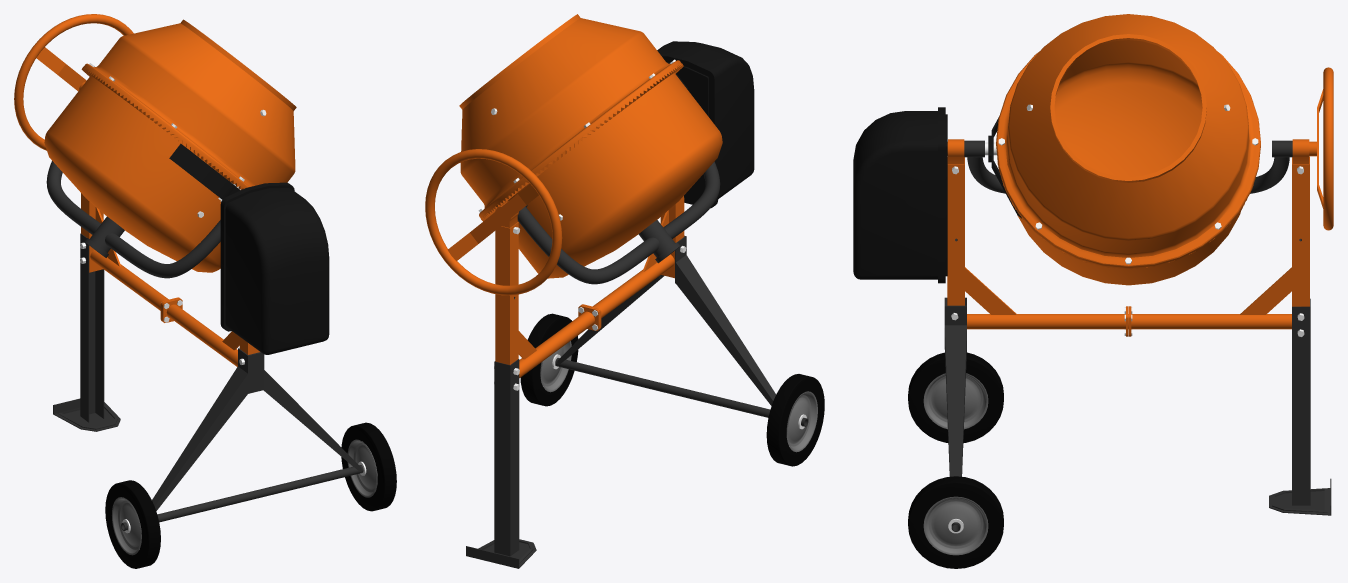
The model's file is mixer.glb.
3 views of the same model, side by side, from view 1: azimuth 30°, elevation 25°; view 2: azimuth 150°, elevation 25°; view 3: azimuth 270°, elevation 25° (orthographic). The views are drawn at different scales.
Parts seen in each view (by area): view 1: Object_8, Object_2, Object_6, Object_4, Object_5, Object_3, Object_7; view 2: Object_8, Object_6, Object_2, Object_4, Object_5, Object_7; view 3: Object_8, Object_2, Object_6, Object_4, Object_5, Object_7.
Boxes of the visible parts, left/top/right/bottom form: Object_8: left=14, top=14, right=296, bottom=366; Object_2: left=220, top=182, right=329, bottom=354; Object_6: left=46, top=161, right=363, bottom=530; Object_4: left=105, top=422, right=396, bottom=568; Object_5: left=112, top=439, right=377, bottom=555; Object_3: left=169, top=143, right=240, bottom=199; Object_7: left=80, top=63, right=366, bottom=533; Object_8: left=425, top=14, right=722, bottom=377; Object_6: left=466, top=162, right=808, bottom=568; Object_2: left=657, top=41, right=754, bottom=208; Object_4: left=520, top=313, right=824, bottom=466; Object_5: left=540, top=341, right=817, bottom=452; Object_7: left=478, top=59, right=806, bottom=429; Object_8: left=947, top=14, right=1333, bottom=336; Object_2: left=853, top=107, right=947, bottom=283; Object_6: left=944, top=140, right=1331, bottom=531; Object_4: left=908, top=352, right=1003, bottom=568; Object_5: left=923, top=373, right=988, bottom=555; Object_7: left=948, top=104, right=1304, bottom=533.
Bounding box in the file's own units: 0.7595 × 1.26 × 1.14.
